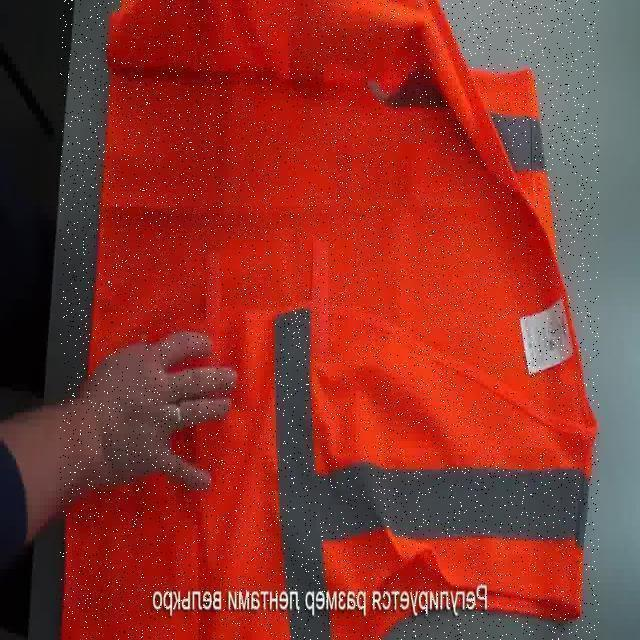safety_vest: (60, 0, 599, 640)
